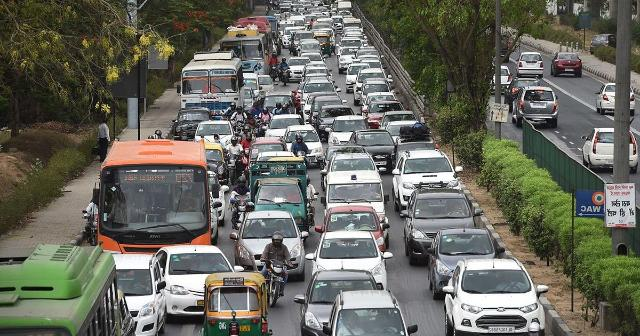3-Wheeler: (196, 268, 268, 336)
bike: (260, 235, 294, 310)
bus: (94, 142, 210, 256), (178, 55, 246, 111), (220, 24, 274, 72)
car: (439, 254, 545, 336), (403, 189, 472, 265), (392, 150, 460, 214), (507, 84, 563, 134), (550, 44, 584, 78), (513, 47, 547, 79)
semi-trailer: (242, 162, 308, 232)
